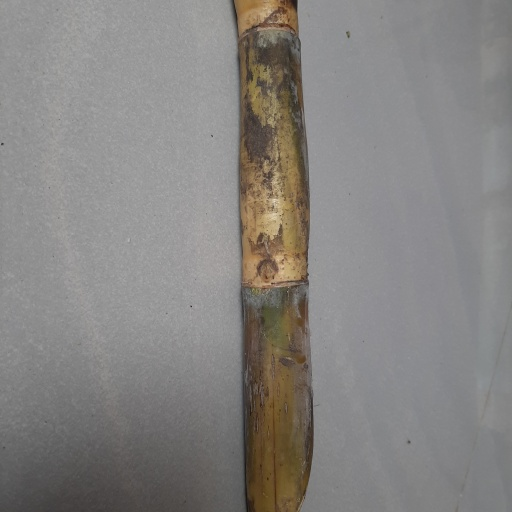Damage_Bud: (256, 259, 278, 282)
